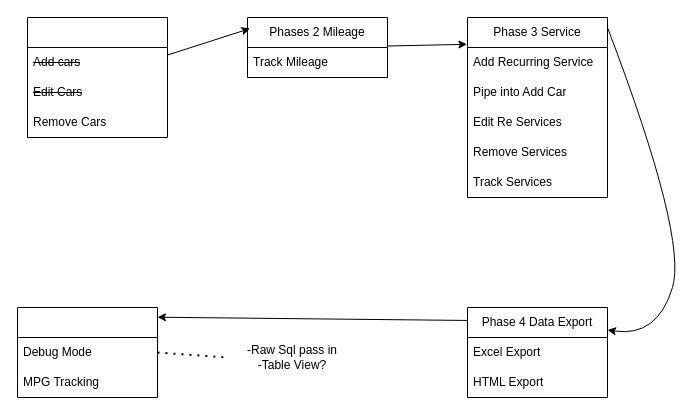
Image size: 693x415. Some labels were removed from this diagram. Each missing label, with the box of its shape:
Extra: (16, 306, 158, 398)
Phase 1 Cars: (26, 16, 168, 138)
